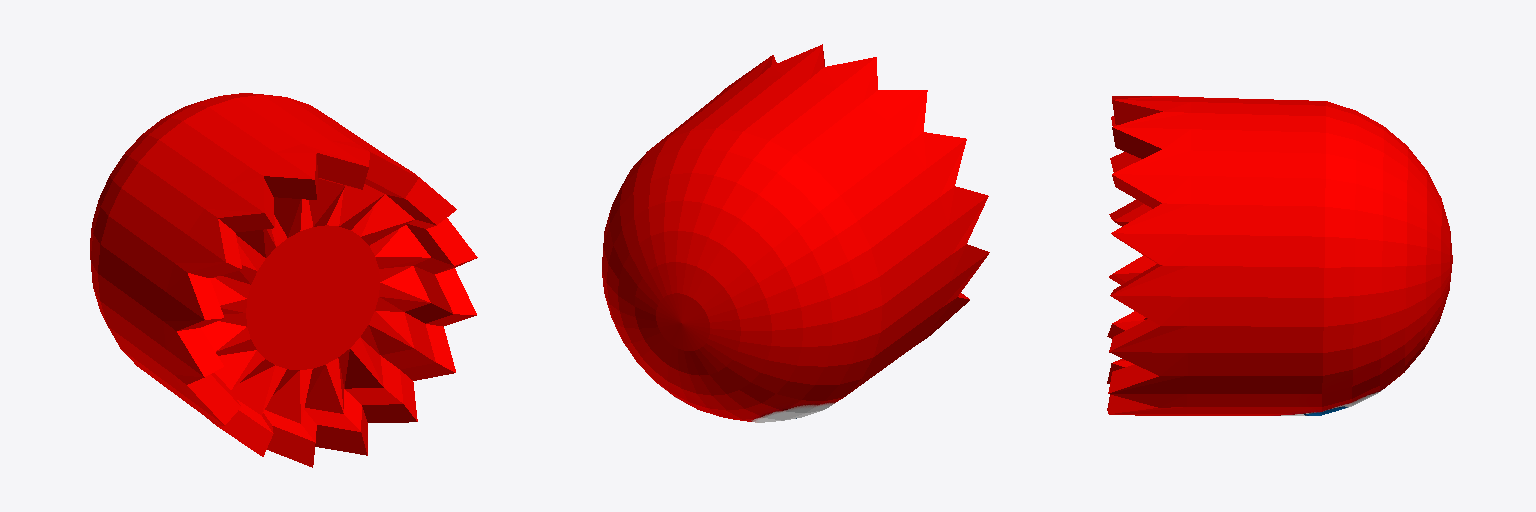
The picture shows the model from 3 angles: view 1: azimuth 30°, elevation 25°; view 2: azimuth 150°, elevation 25°; view 3: azimuth 270°, elevation 25°; orthographic projection.
Parts seen in each view (by area): view 1: ghost_Sphere; view 2: ghost_Sphere; view 3: ghost_Sphere.
Part boxes in pixels (left/top/right/bottom): ghost_Sphere: left=90, top=93, right=477, bottom=467; ghost_Sphere: left=602, top=44, right=989, bottom=422; ghost_Sphere: left=1107, top=96, right=1452, bottom=415.
Size of the model in its own units: 2 by 2 by 2.15.
1 materials, 1 textured.